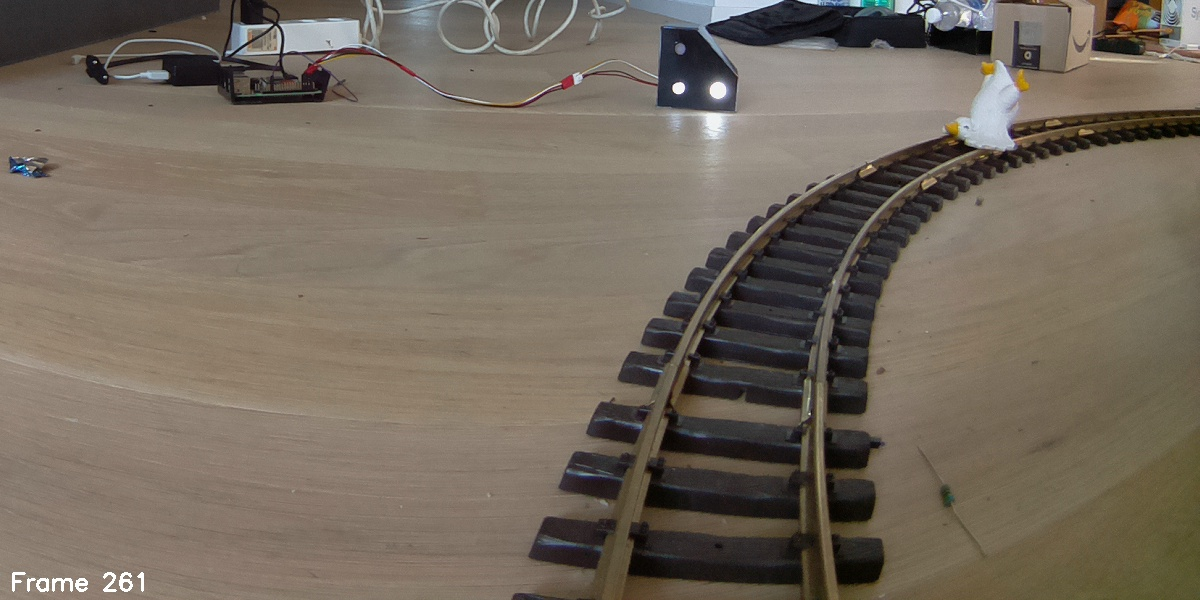Ente: (943, 55, 1031, 153)
Halt: (658, 26, 737, 113)
